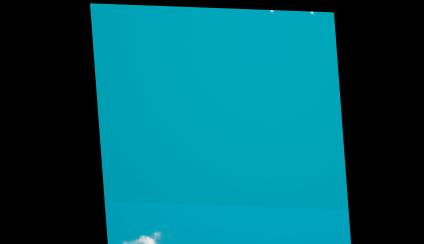boat: (265, 8, 321, 37)
drone: (273, 8, 311, 19)
land_base: (106, 222, 184, 244)
